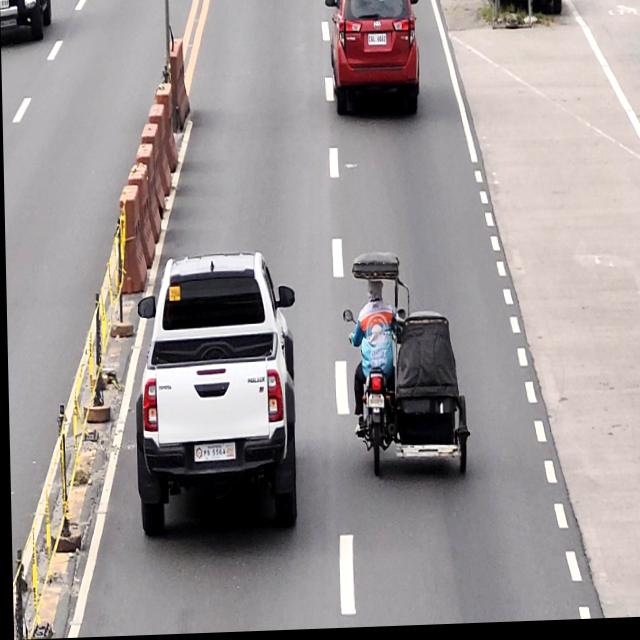Car: (129, 249, 298, 540), (324, 0, 420, 121)
License-Plate: (191, 446, 236, 465), (366, 396, 382, 413), (368, 36, 387, 49)
Tricycle: (344, 253, 470, 482)
